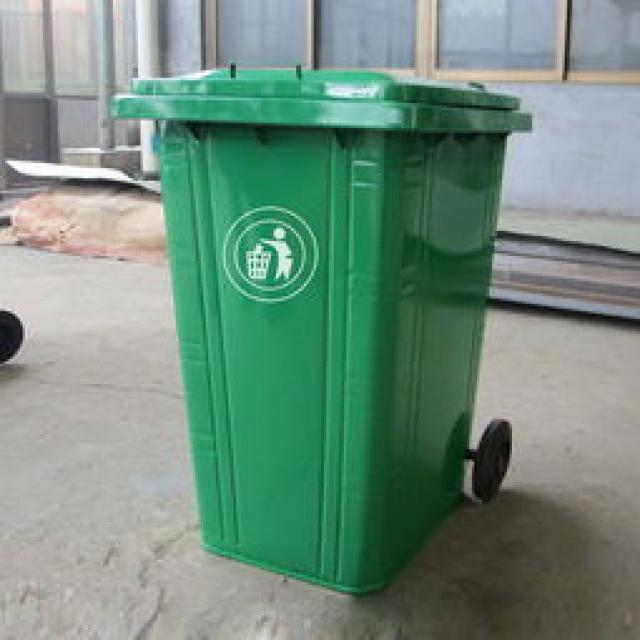garbage_bin: (108, 60, 529, 590)
